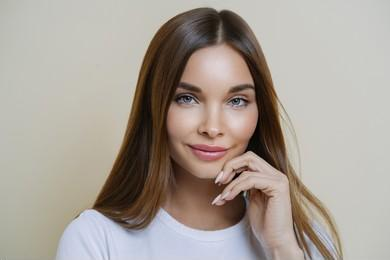face: (167, 76, 256, 180)
